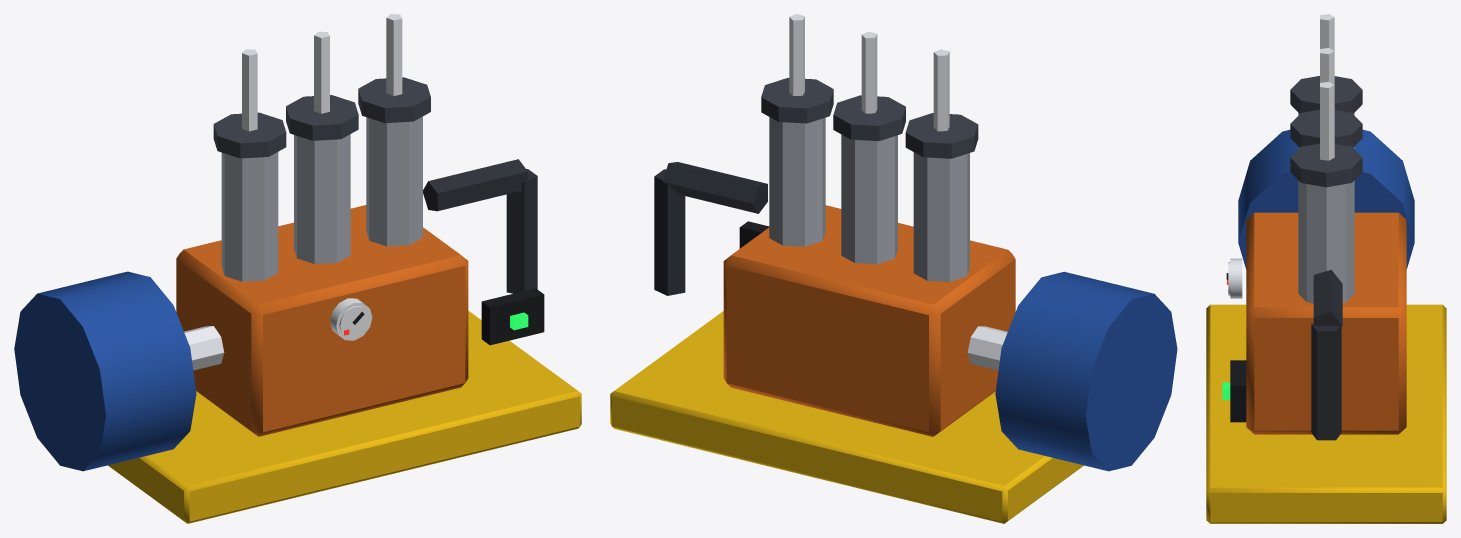
Rendered from tank_piston_pump_skid.glb.
3 renders of one model, left to right at view 1: azimuth 30°, elevation 25°; view 2: azimuth 150°, elevation 25°; view 3: azimuth 270°, elevation 25°, orthographic. The views are drawn at different scales.
Visible parts, largest first — view 1: tank_piston_pump_skid; view 2: tank_piston_pump_skid; view 3: tank_piston_pump_skid.
Part boxes in pixels (x1,y1,x2,y2): tank_piston_pump_skid: (14, 14, 581, 523); tank_piston_pump_skid: (610, 14, 1177, 523); tank_piston_pump_skid: (1206, 14, 1446, 523).
Bounding box in the file's own units: 1.31 × 1.05 × 0.6.
